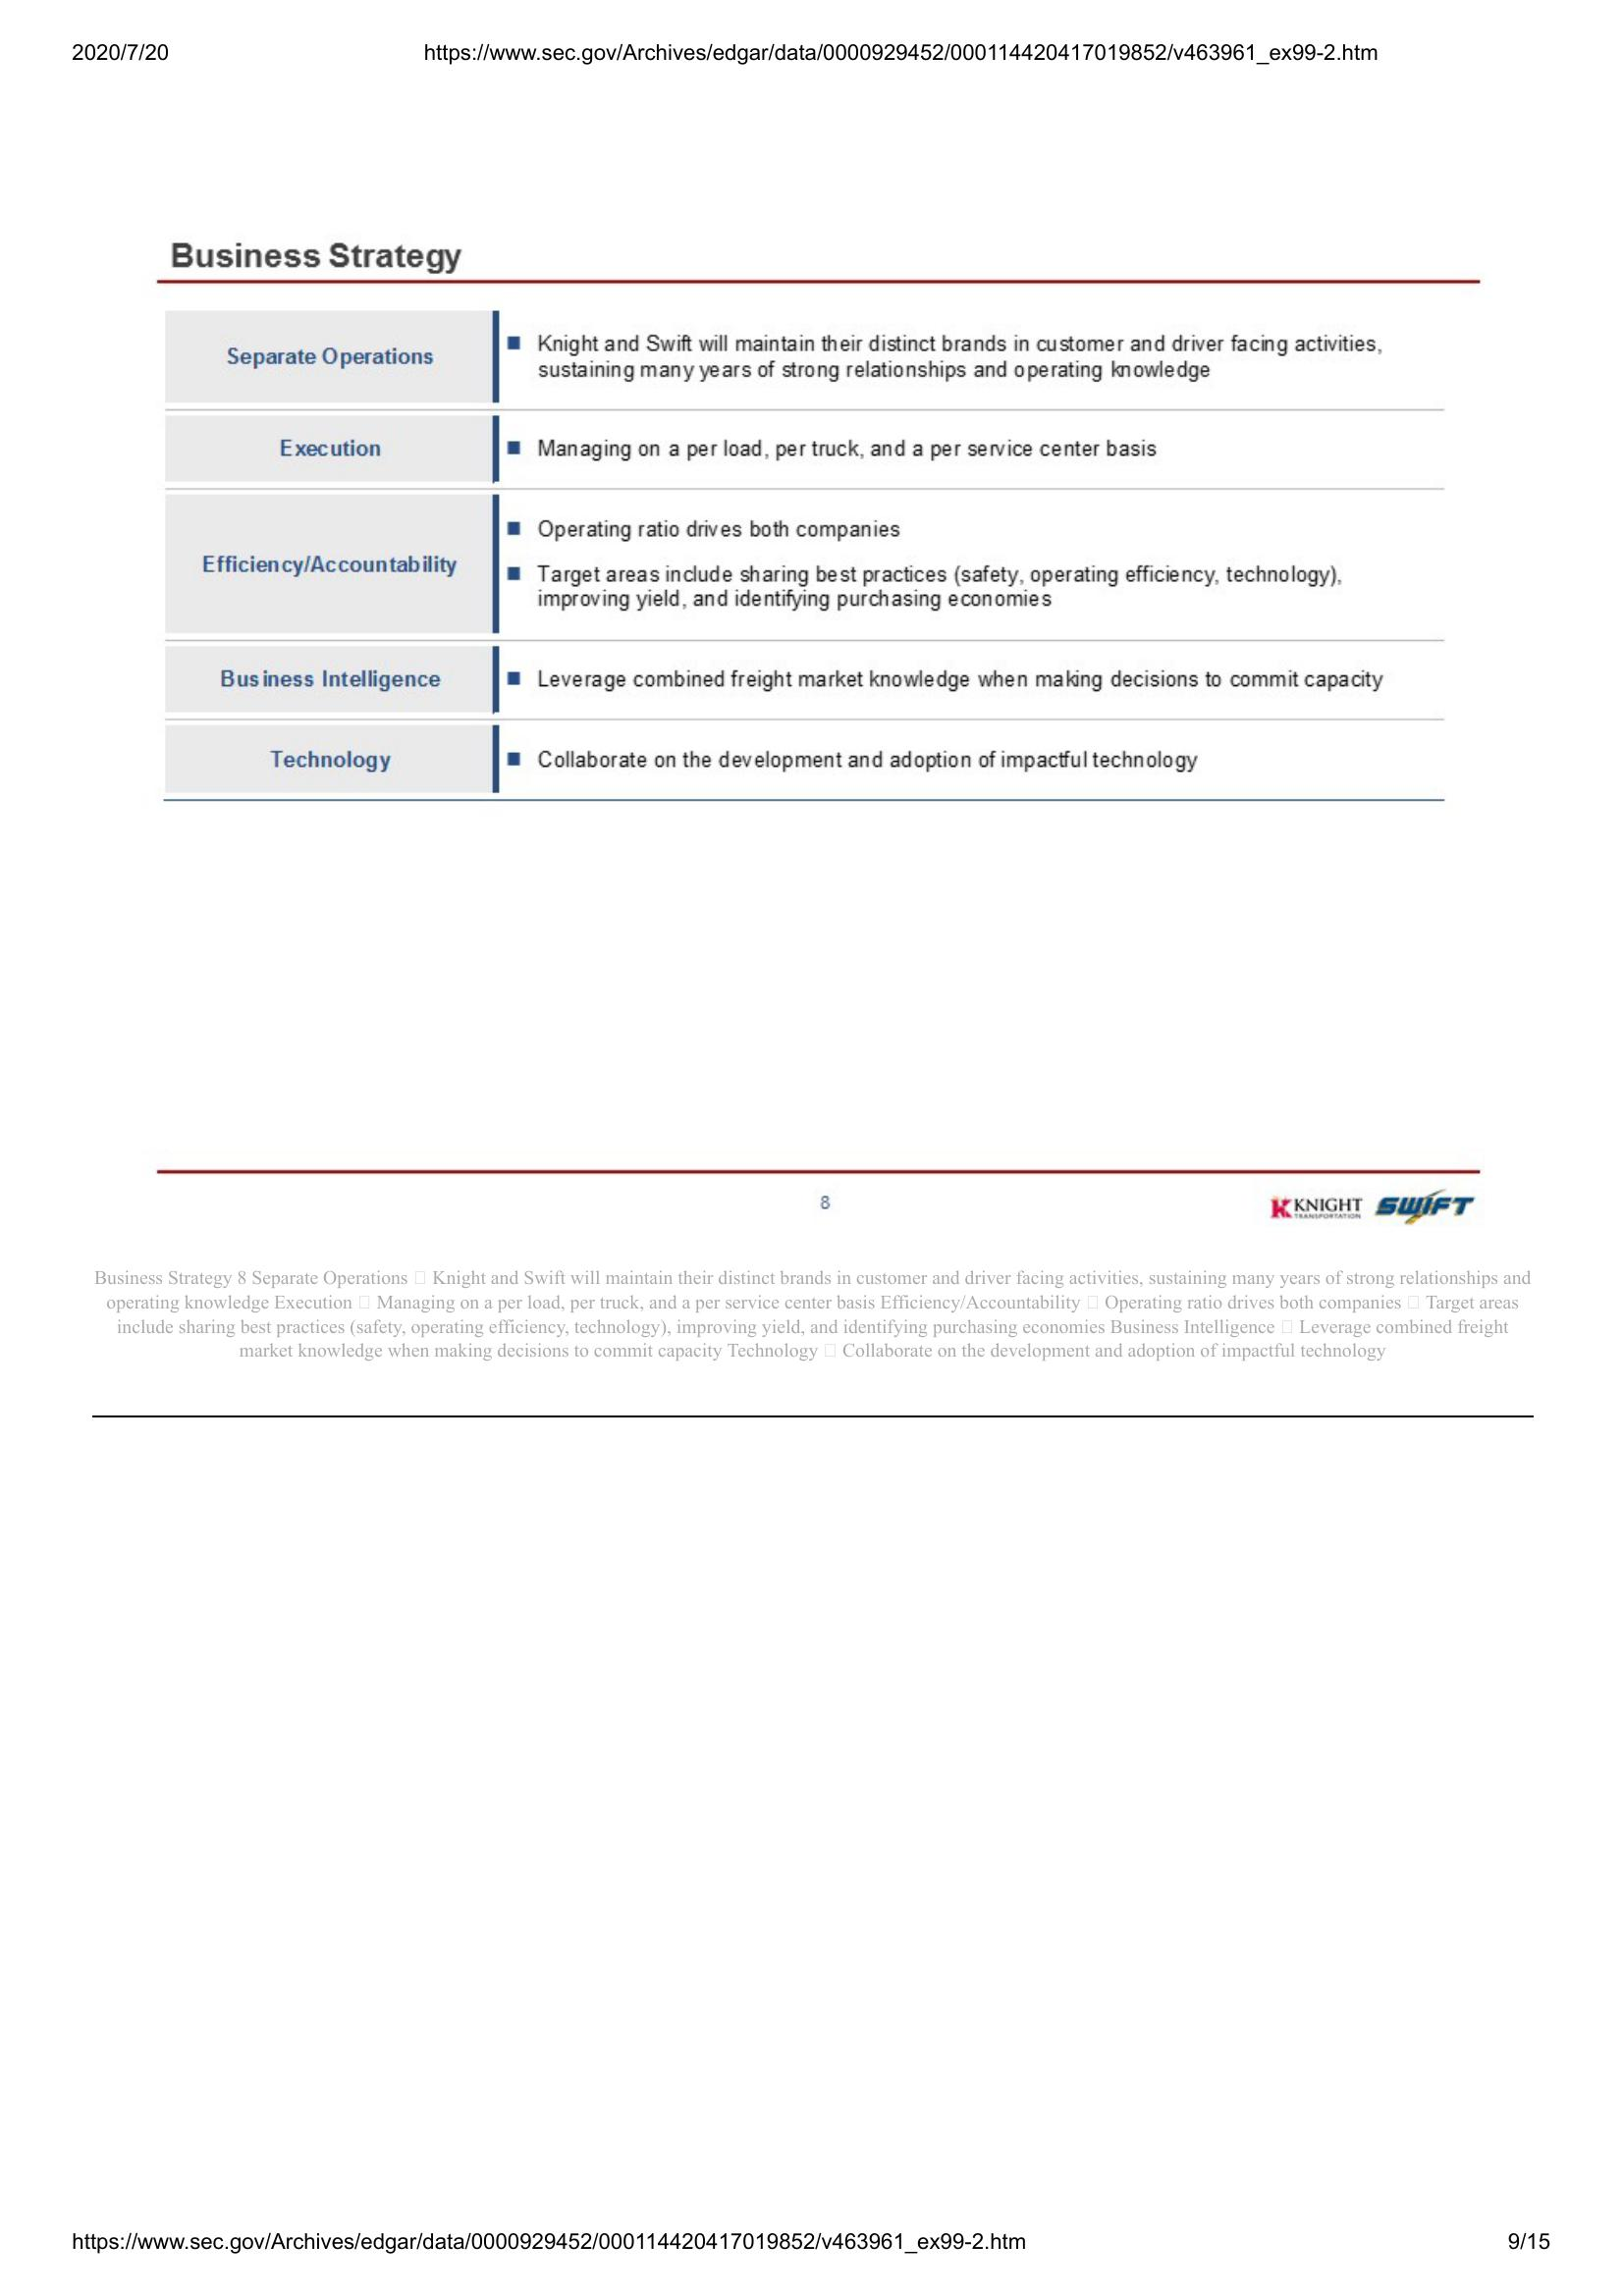table: (158, 300, 1463, 799)
